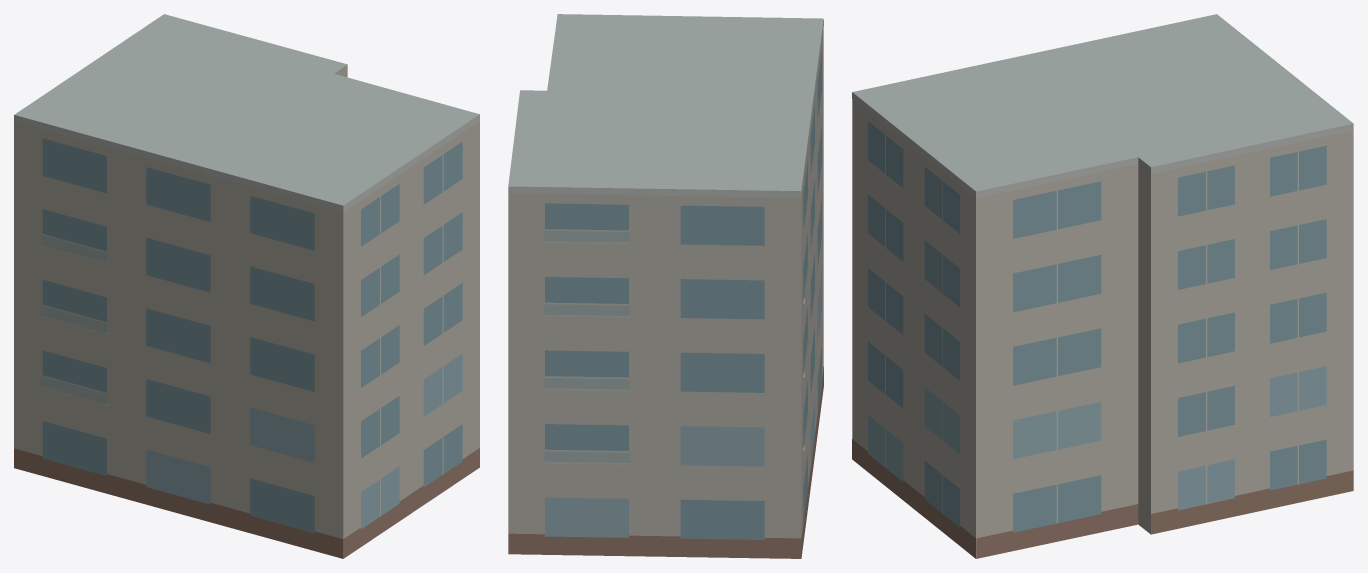
File: survey-upis-32988564.glb
The picture shows the model from 3 angles, left to right: view 1: azimuth 30°, elevation 25°; view 2: azimuth 150°, elevation 25°; view 3: azimuth 270°, elevation 25°; orthographic projection. The views are drawn at different scales.
Visible parts, largest first — view 1: survey-upis-32988564.tmp; view 2: survey-upis-32988564.tmp; view 3: survey-upis-32988564.tmp.
Boxes of the visible parts, left/top/right/bottom form: survey-upis-32988564.tmp: left=14, top=14, right=479, bottom=558; survey-upis-32988564.tmp: left=508, top=14, right=823, bottom=558; survey-upis-32988564.tmp: left=852, top=14, right=1353, bottom=558.
Bounding box in the file's own units: 13.54 × 13.05 × 16.16.
